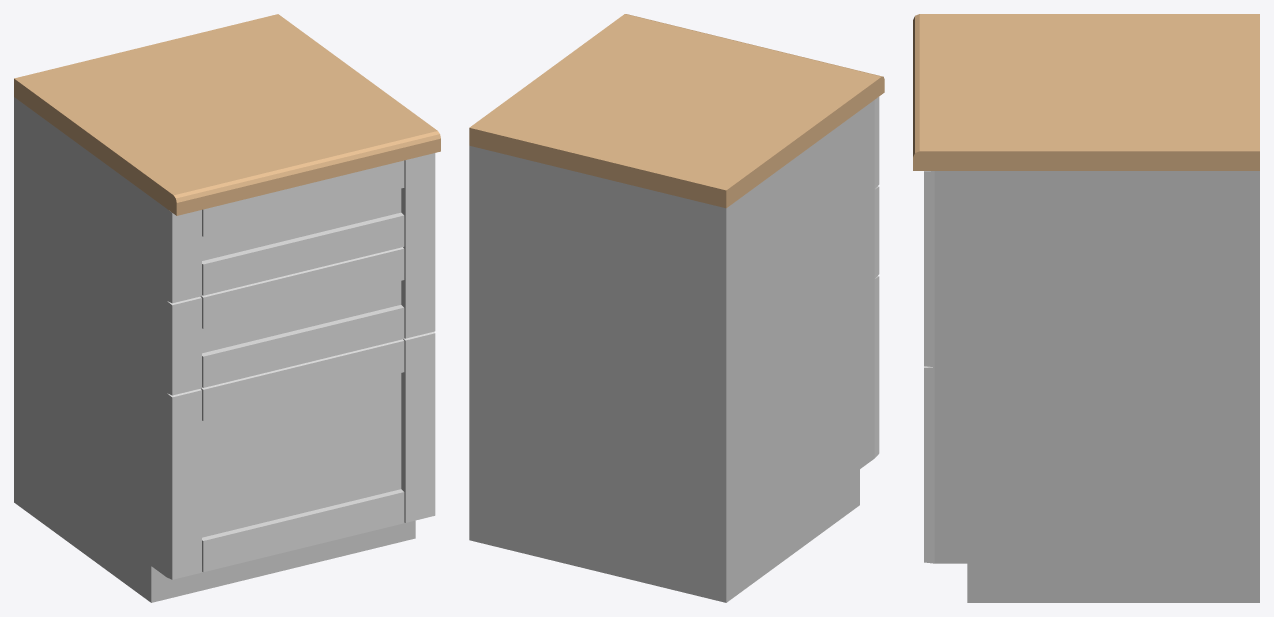
The model's file is floor_unit_narrow2.dae.
3 renders of one model, left to right at view 1: azimuth 30°, elevation 25°; view 2: azimuth 150°, elevation 25°; view 3: azimuth 270°, elevation 25°, orthographic. The views are drawn at different scales.
Parts seen in each view (by area): view 1: cover_small_drawers, Floor_unit2, CounterTop_Cabinet2; view 2: Floor_unit2, CounterTop_Cabinet2, cover_small_drawers; view 3: Floor_unit2, CounterTop_Cabinet2, cover_small_drawers.
Boxes of the visible parts, x1,y1,x2,y2 form: cover_small_drawers: [166, 153, 435, 579]; Floor_unit2: [14, 97, 415, 602]; CounterTop_Cabinet2: [14, 14, 440, 215]; Floor_unit2: [469, 100, 874, 602]; CounterTop_Cabinet2: [469, 14, 884, 208]; cover_small_drawers: [874, 97, 879, 457]; Floor_unit2: [934, 171, 1259, 602]; CounterTop_Cabinet2: [913, 14, 1259, 170]; cover_small_drawers: [924, 171, 934, 563].
Size of the model in its own units: 0.6 by 0.64 by 0.92.
